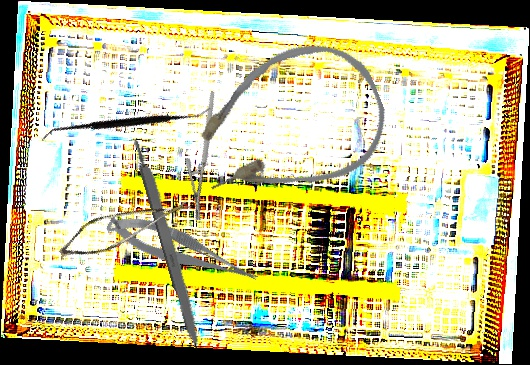Cannula: (173, 23, 403, 225)
Micro Scissor: (103, 200, 262, 303), (54, 170, 193, 280)
Needle Holder: (157, 90, 254, 223)
Scalpel Handle: (130, 135, 207, 352)
Spatula Surgical: (40, 43, 212, 205)
